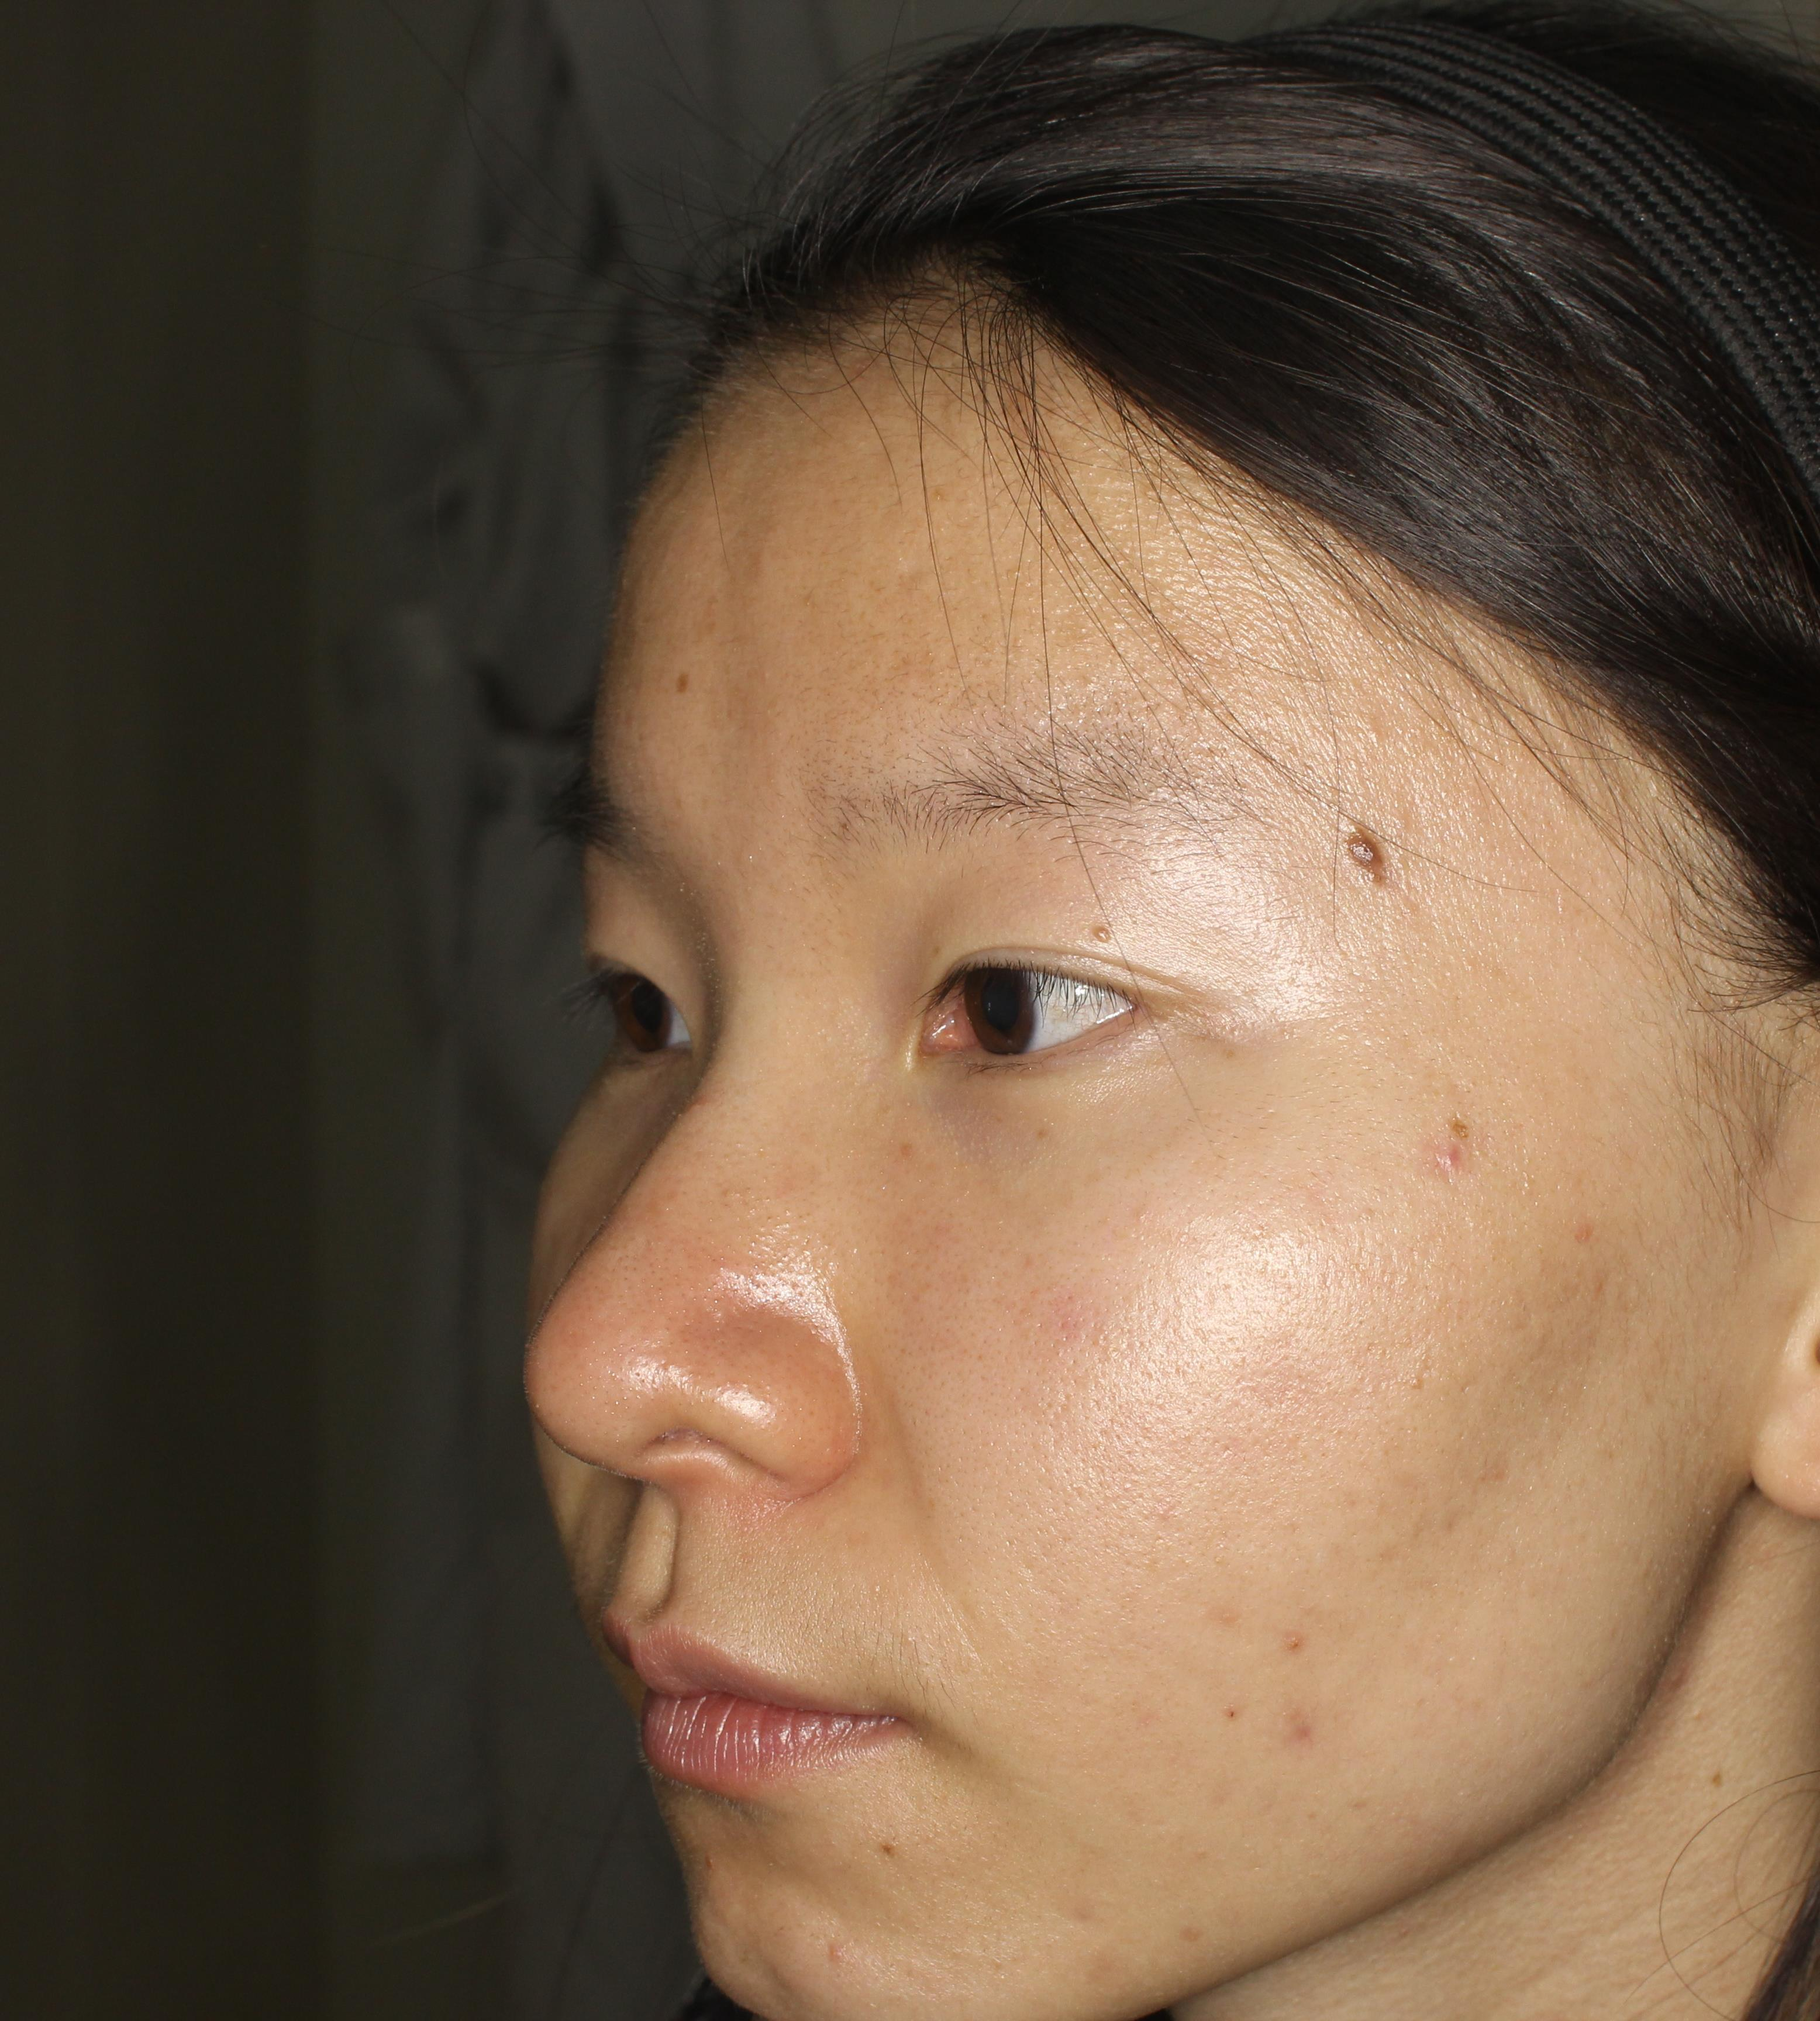fore: (1430, 1110, 1534, 1196)
